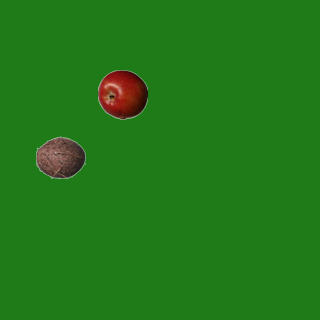Apple Braeburn: (97, 69, 147, 119)
Cocos: (35, 132, 85, 182)
